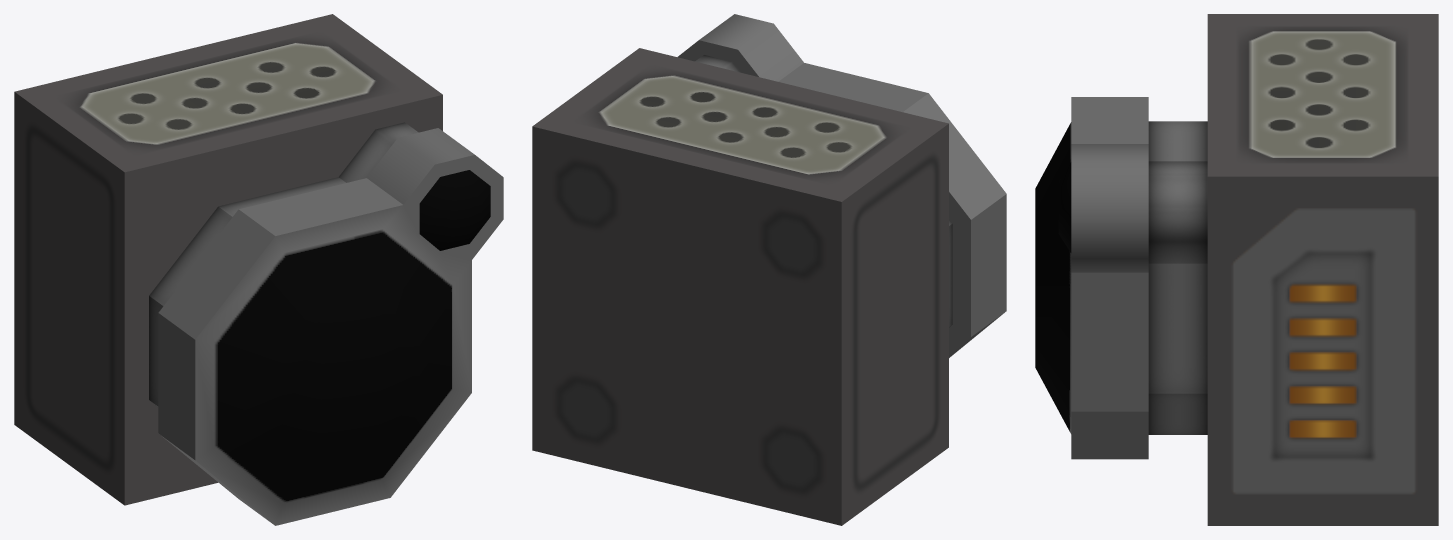
Rendered from obj_interactive_sensor_off.fbx.
3 renders of one model, left to right at view 1: azimuth 30°, elevation 25°; view 2: azimuth 150°, elevation 25°; view 3: azimuth 270°, elevation 25°, orthographic. The views are drawn at different scales.
Parts seen in each view (by area): view 1: obj_interactive_sensor_01_off; view 2: obj_interactive_sensor_01_off; view 3: obj_interactive_sensor_01_off.
Boxes of the visible parts, bbox=[...] form: obj_interactive_sensor_01_off: bbox=[14, 14, 503, 525]; obj_interactive_sensor_01_off: bbox=[532, 14, 1006, 525]; obj_interactive_sensor_01_off: bbox=[1035, 14, 1438, 525].
Size of the model in its own units: 1 by 1 by 1.05.
